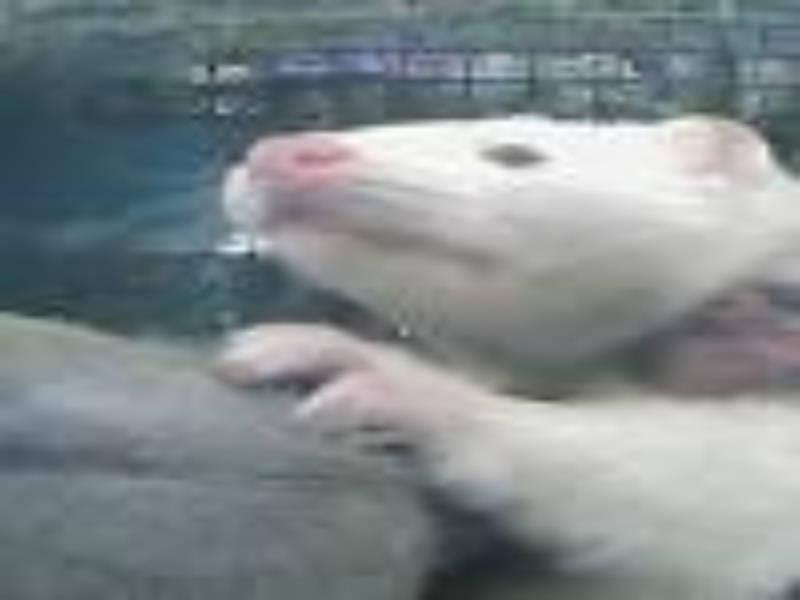minkish: (221, 103, 788, 594)
